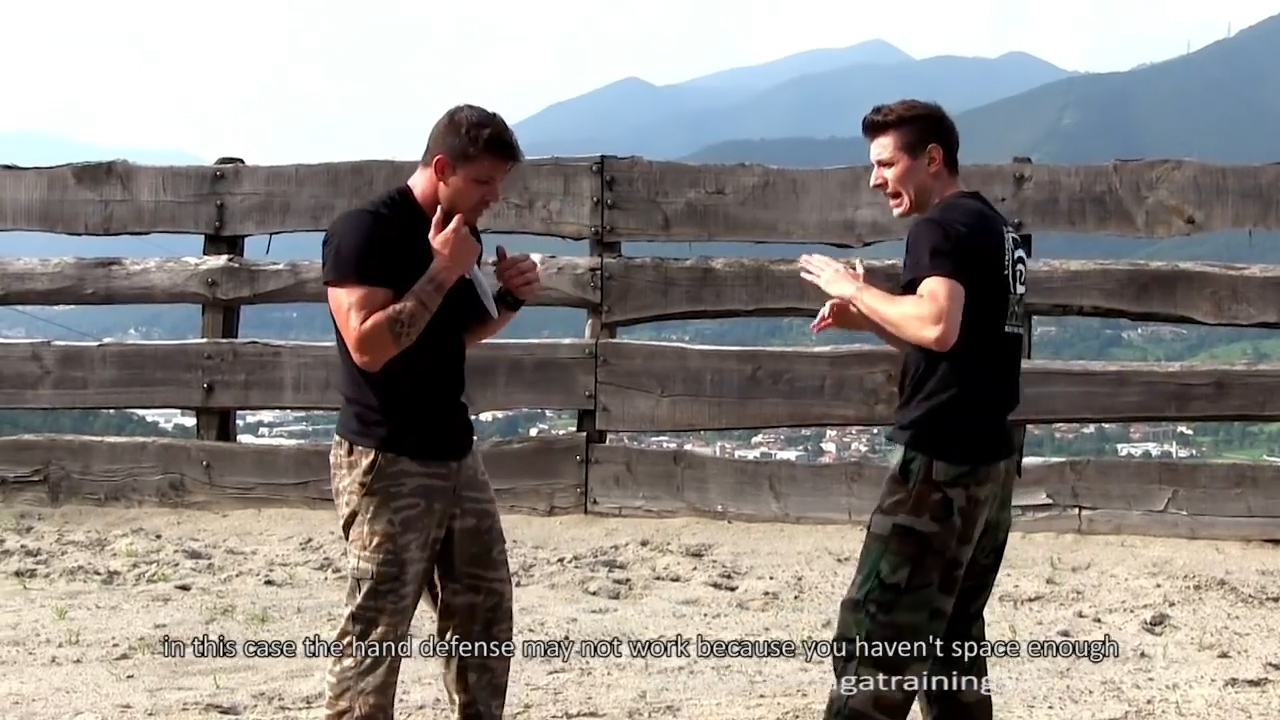knife: (433, 224, 502, 331)
